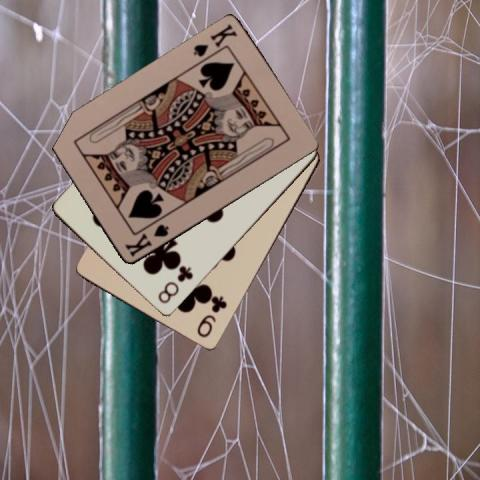8c: (154, 264, 194, 305)
9c: (194, 293, 229, 340)
Ks: (190, 20, 239, 58), (122, 221, 170, 259)
